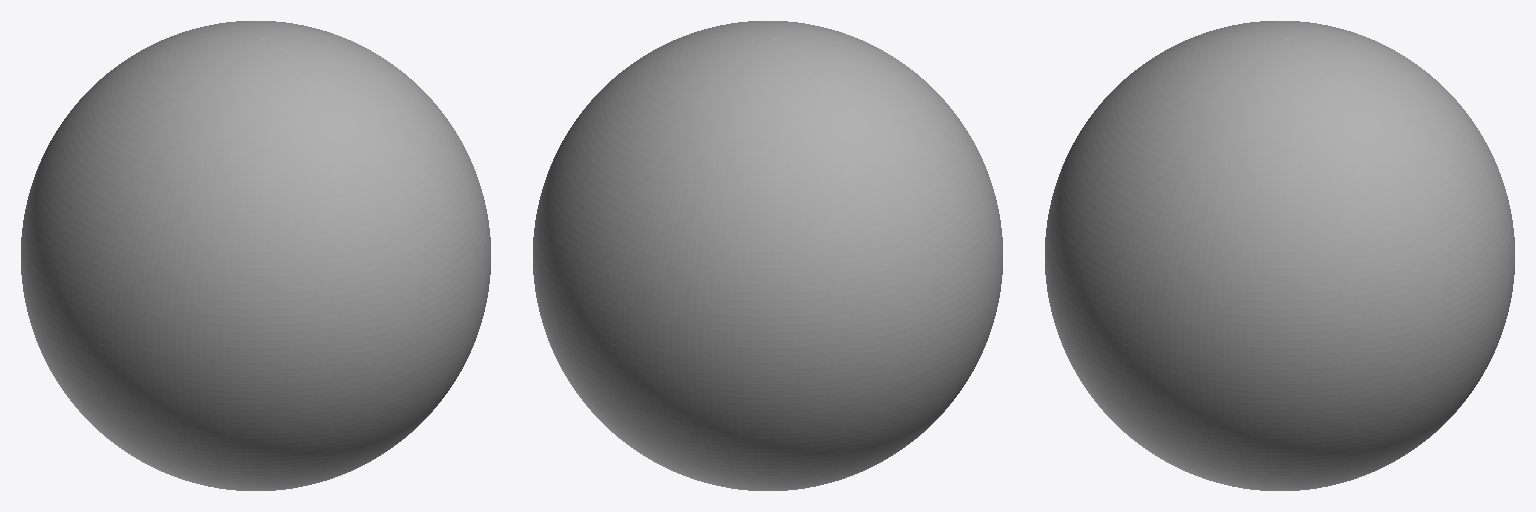
The model's file is globe-sphere.obj.
The picture shows the model from 3 angles: view 1: azimuth 30°, elevation 25°; view 2: azimuth 150°, elevation 25°; view 3: azimuth 270°, elevation 25°; orthographic projection.
Parts seen in each view (by area): view 1: Sphere; view 2: Sphere; view 3: Sphere.
Boxes of the visible parts, box(x1,y1,x2,y2) form: Sphere: box(21, 21, 490, 490); Sphere: box(533, 21, 1002, 490); Sphere: box(1045, 21, 1514, 490).
Size of the model in its own units: 0.9988 by 1 by 0.9988.